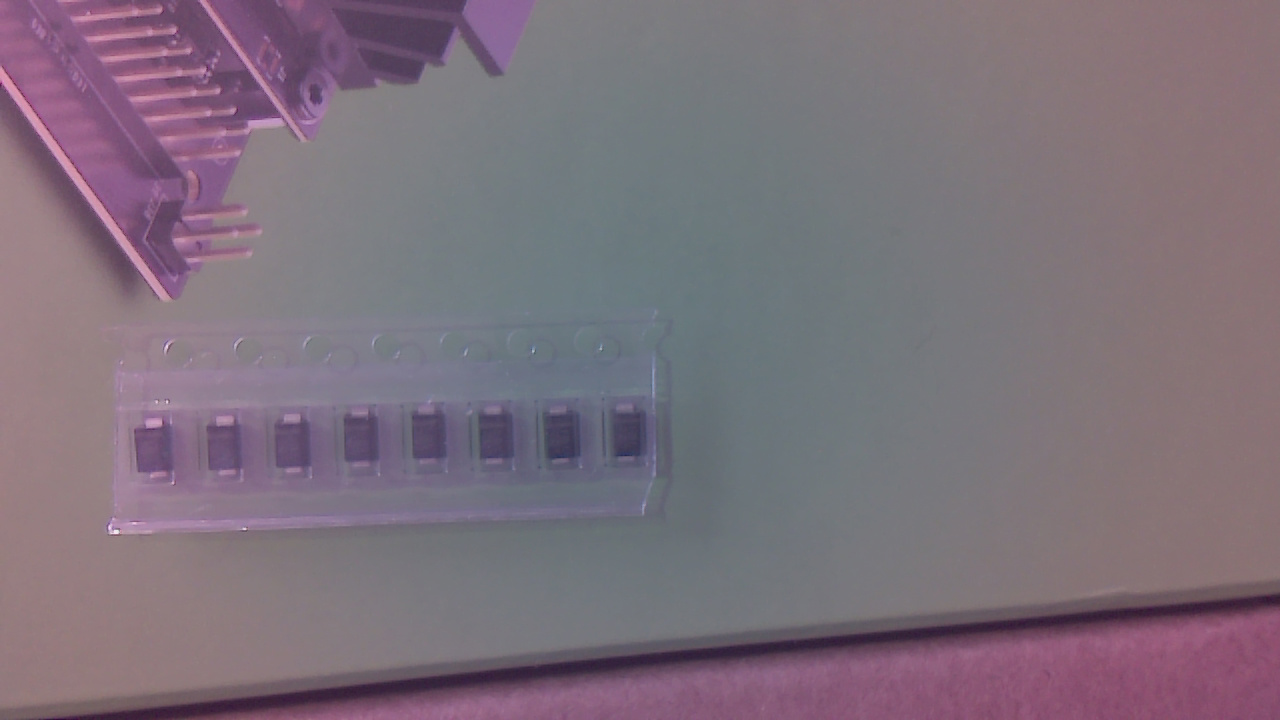Diode: (612, 405, 651, 472), (143, 422, 178, 493), (347, 412, 385, 477), (215, 419, 251, 486), (546, 408, 582, 475), (277, 418, 312, 483), (483, 407, 518, 472), (417, 408, 449, 477)
